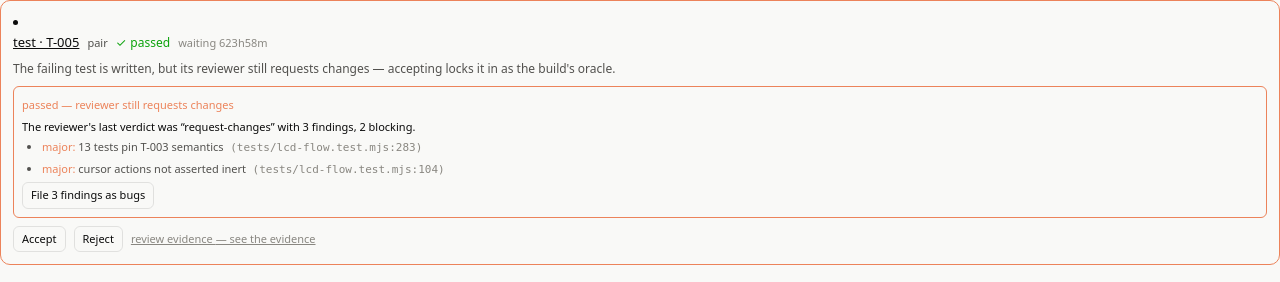
Test case: WaitingCard — standing reviewer objection from the engine's gate record › shows the objection and files the findings through the engine
Check: the element with test id "waiting-dissent" shows "reviewer still requests changes", box x1=75 y1=97 x2=234 y2=112
Check: the element with test id "waiting-dissent" shows "3 findings, 2 blocking", box x1=13 y1=86 x2=1267 y2=218
Click the button with test id "waiting-file-findings" at [88, 195], box x1=22 y1=182 x2=154 y2=208
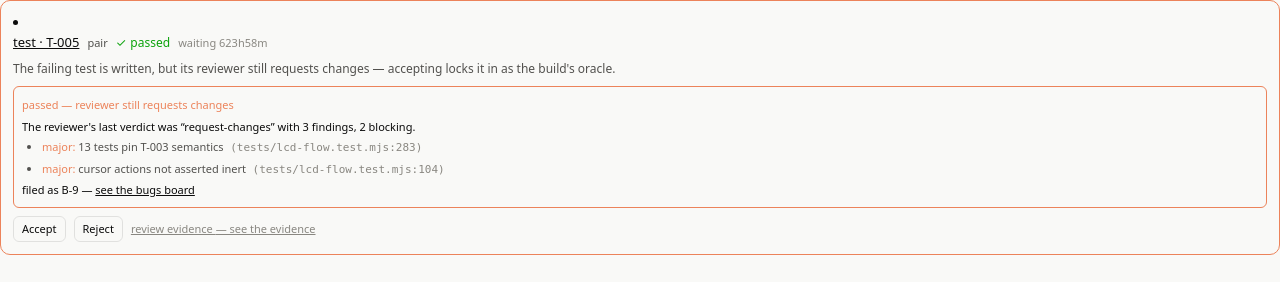
Check: the element with test id "waiting-findings-filed" shows "B-9", box x1=62 y1=182 x2=79 y2=197
